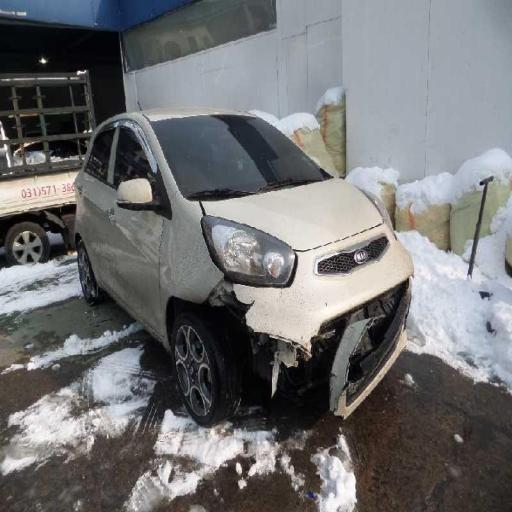broken: (157, 200, 366, 418)
